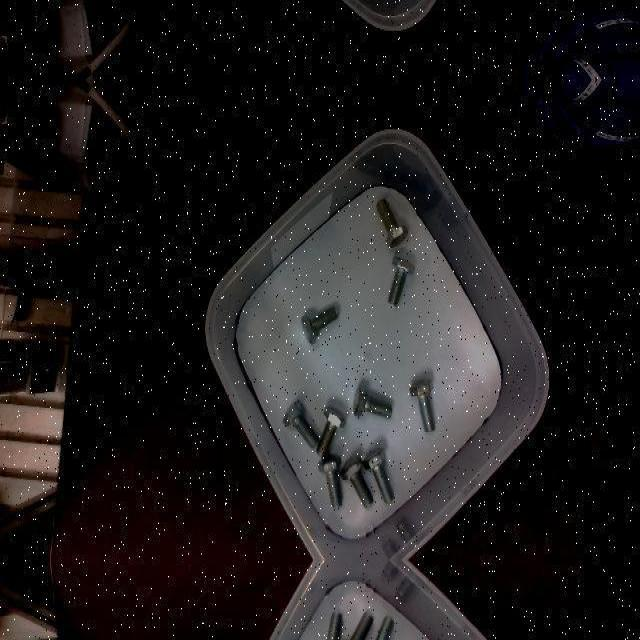screw: (339, 454, 373, 508), (282, 399, 318, 449), (362, 447, 394, 503), (314, 406, 346, 458), (376, 197, 408, 247), (301, 306, 338, 344), (409, 379, 435, 433), (387, 256, 415, 306), (317, 455, 342, 509), (353, 385, 392, 419), (339, 610, 373, 640), (362, 617, 394, 639), (316, 612, 341, 640)
